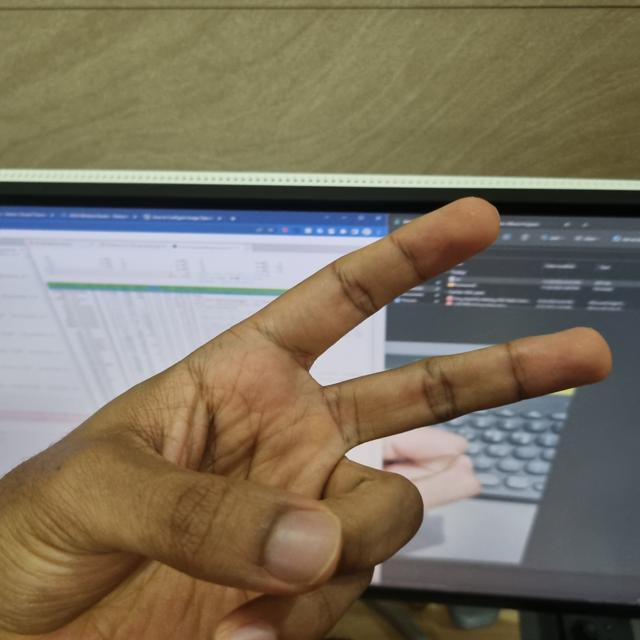Scissors: (8, 201, 607, 639)
